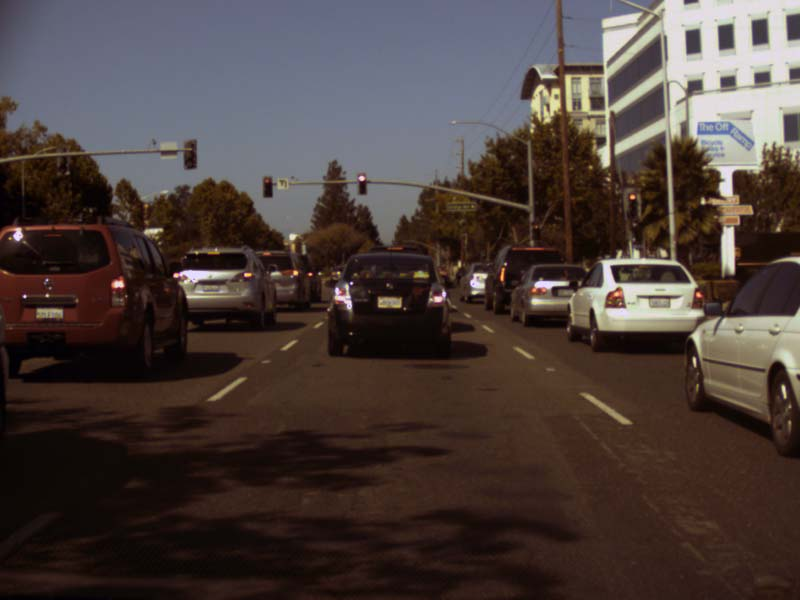Red: (628, 192, 637, 218), (358, 172, 366, 194), (263, 178, 271, 197), (533, 222, 540, 239)
